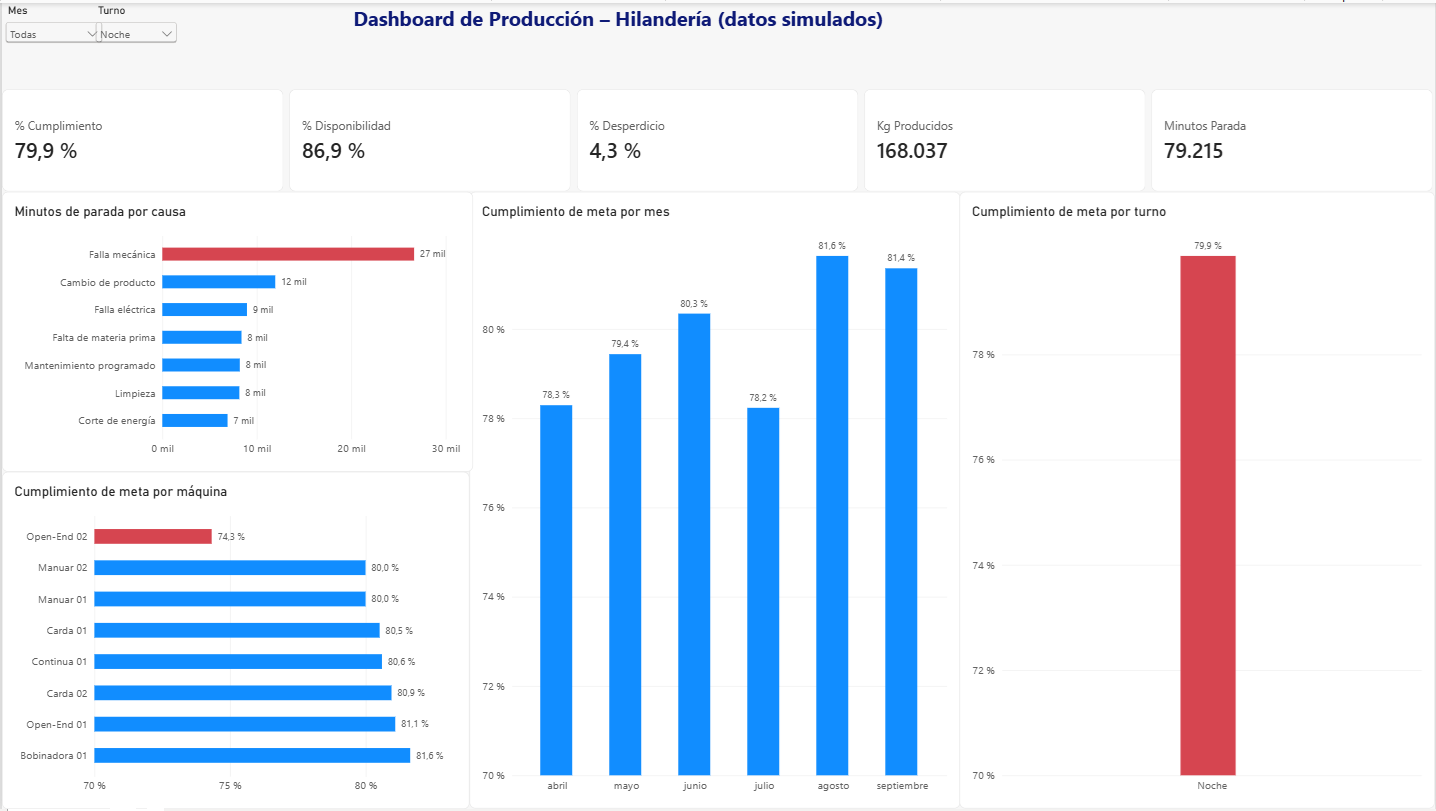

What the dashboard file says about the page in this screenshot:
{"tool":"powerbi","page":{"name":"Página 1","canvas":[1920,1080],"ordinal":0},"visuals":[{"type":"cardVisual","fields":{"Data":["Produccion.% Cumplimiento","Produccion.% Disponibilidad","Produccion.% Desperdicio","Produccion.Kg Producidos","Produccion.Minutos Parada"]},"box":[0,115.1,1920.4,137.8],"z":0},{"type":"clusteredColumnChart","title":"Cumplimiento de meta por mes","fields":{"Category":["Calendario.Mes"],"Y":["Produccion.% Cumplimiento"]},"box":[626.2,252.9,657.6,826.7],"z":1000},{"type":"clusteredBarChart","title":"Cumplimiento de meta por máquina","fields":{"Category":["Maquinas.Maquina"],"Y":["Produccion.% Cumplimiento"]},"box":[0,627.9,626.2,451.7],"z":2000},{"type":"clusteredColumnChart","title":"Cumplimiento de meta por turno","fields":{"Category":["Turnos.Turno"],"Y":["Produccion.% Cumplimiento"]},"box":[1283.7,252.9,636.6,826.7],"z":3000},{"type":"clusteredBarChart","title":"Minutos de parada por causa","fields":{"Category":["Paradas.Causa"],"Y":["Produccion.Minutos Parada"]},"box":[0,252.9,631.4,375],"z":4000},{"type":"slicer","fields":{"Values":["Calendario.Mes"]},"box":[0,1.7,139.5,69.8],"z":5000},{"type":"slicer","fields":{"Values":["Turnos.Turno"]},"box":[120.3,1.7,118.6,68],"z":6000},{"type":"textbox","box":[470.9,1.7,739.5,52.3],"z":7000}]}

Visuals, with their boxes in screenshot pixels (x1, y1, x2, y2), scaled from the page's 1920x1080 canvas onto the 1436x811 screenshot:
cardVisual - Produccion.% Cumplimiento x Produccion.% Disponibilidad: left=0, top=86, right=1435, bottom=190
"Cumplimiento de meta por mes" clusteredColumnChart: left=468, top=190, right=960, bottom=810
"Cumplimiento de meta por máquina" clusteredBarChart: left=0, top=472, right=468, bottom=810
"Cumplimiento de meta por turno" clusteredColumnChart: left=960, top=190, right=1435, bottom=810
"Minutos de parada por causa" clusteredBarChart: left=0, top=190, right=472, bottom=472
slicer - Calendario.Mes: left=0, top=1, right=104, bottom=54
slicer - Turnos.Turno: left=90, top=1, right=179, bottom=52
textbox: left=352, top=1, right=905, bottom=41
